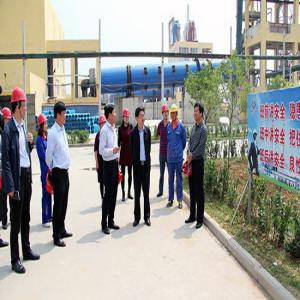none: (54, 103, 67, 125), (106, 104, 117, 124), (194, 104, 204, 123), (136, 107, 146, 126)
red: (13, 88, 27, 119), (39, 114, 49, 134), (2, 108, 12, 127), (123, 108, 130, 125), (100, 115, 107, 130), (163, 106, 170, 120)
yellow: (171, 105, 179, 122)
